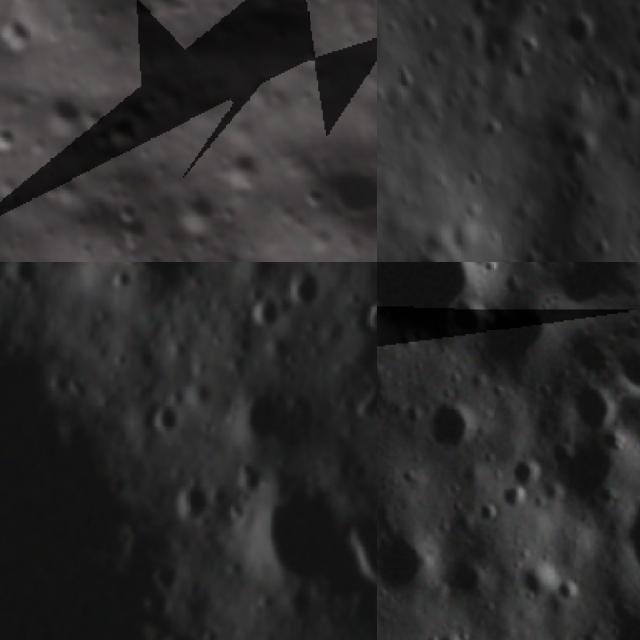crater: (232, 464, 377, 623), (377, 262, 518, 377), (454, 275, 569, 392), (290, 115, 377, 255), (408, 383, 494, 472), (377, 509, 451, 610), (216, 369, 300, 456), (596, 470, 640, 617), (553, 368, 630, 446), (92, 262, 216, 308), (434, 540, 509, 616), (29, 80, 100, 149), (436, 283, 504, 351), (165, 468, 228, 534), (96, 103, 156, 163), (507, 546, 565, 604), (56, 0, 153, 29), (0, 19, 52, 73), (501, 444, 552, 496), (281, 262, 333, 312), (141, 397, 194, 445), (593, 589, 640, 640), (552, 3, 600, 49), (240, 286, 284, 333), (143, 617, 220, 640), (422, 609, 477, 640), (353, 281, 377, 348), (566, 132, 605, 172), (0, 112, 30, 158), (548, 571, 584, 608), (608, 89, 640, 130), (360, 571, 377, 640), (107, 246, 170, 262), (457, 262, 510, 280), (377, 305, 392, 367), (413, 247, 447, 262)
